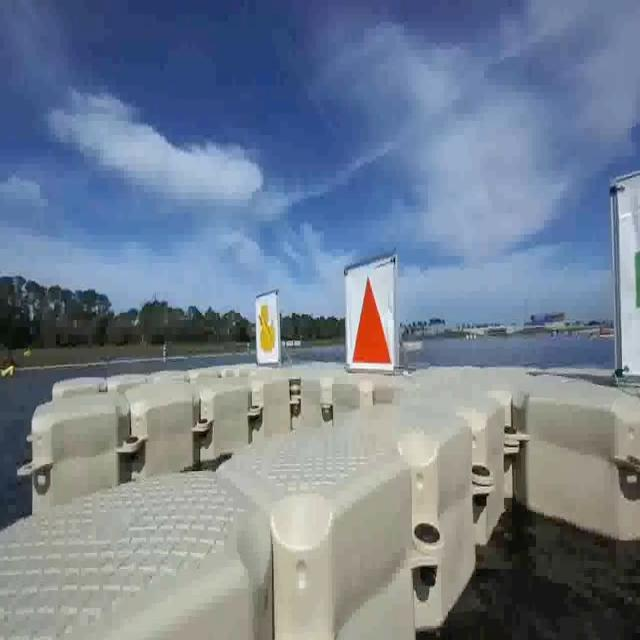blue-cross: (613, 185, 640, 381)
yellow-duck: (255, 290, 282, 360)
